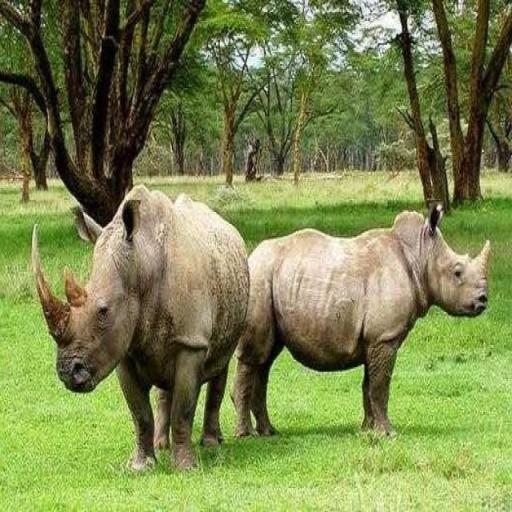Rhino: (30, 182, 249, 472), (228, 200, 492, 439)
